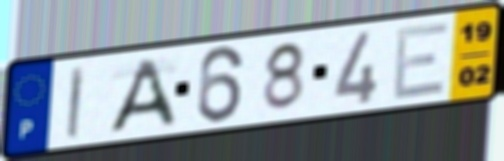4: (331, 27, 381, 106)
6: (195, 44, 246, 126)
8: (259, 40, 306, 114)
A: (104, 55, 179, 136)
E: (389, 18, 452, 102)
I: (64, 63, 88, 141)
